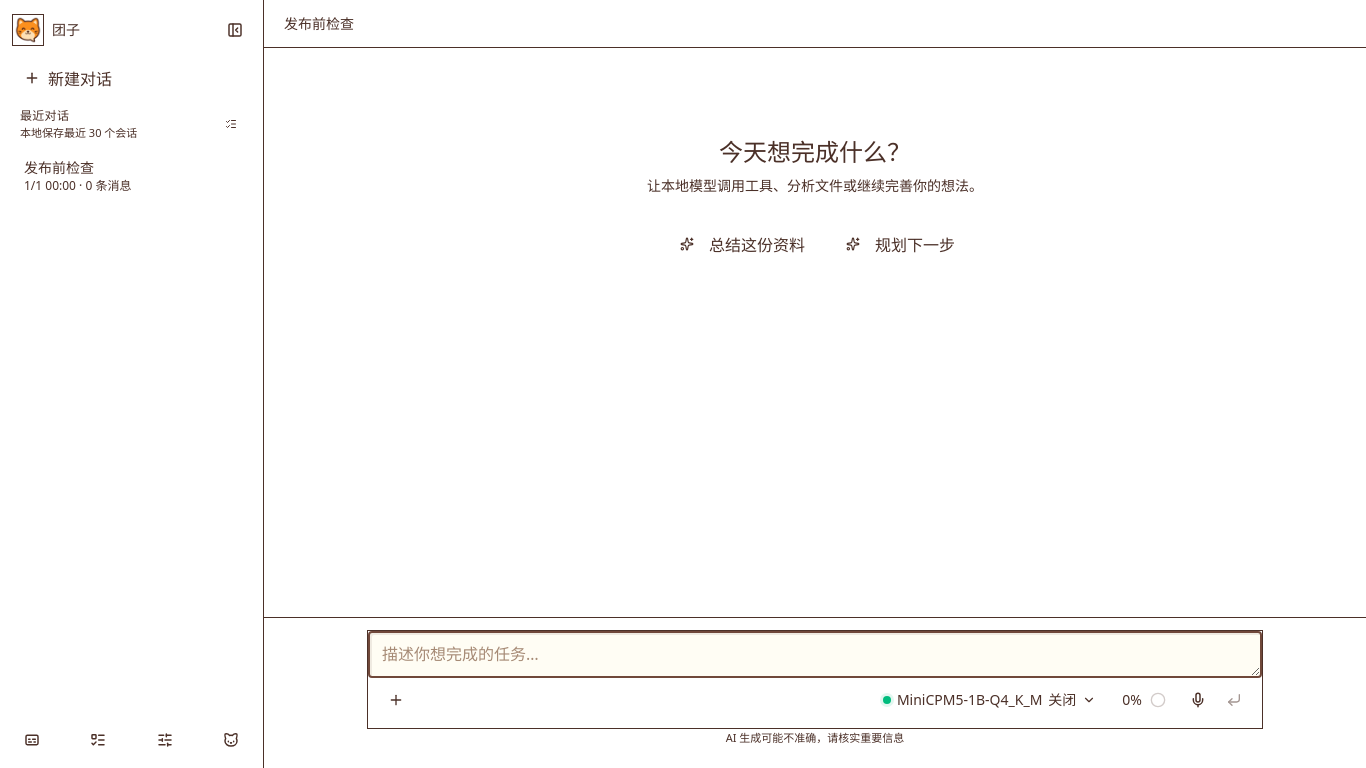
Scenario: ChatPanel workbench › keeps browser paste text-safe and routes attachments through Electron controls
Click the button named "添加附件" at (396, 700), box [380, 684, 412, 716]
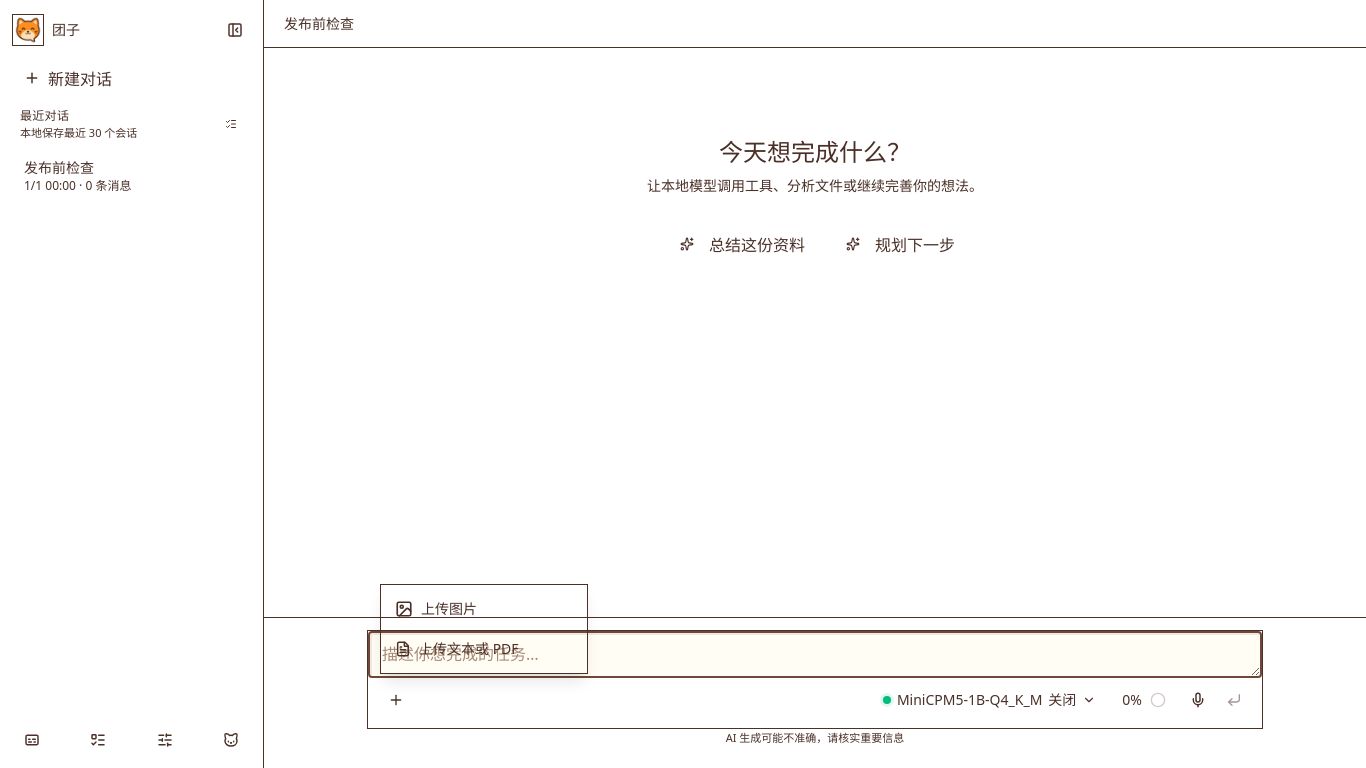
Click the menu item "上传图片" at (436, 608), box [395, 599, 477, 618]
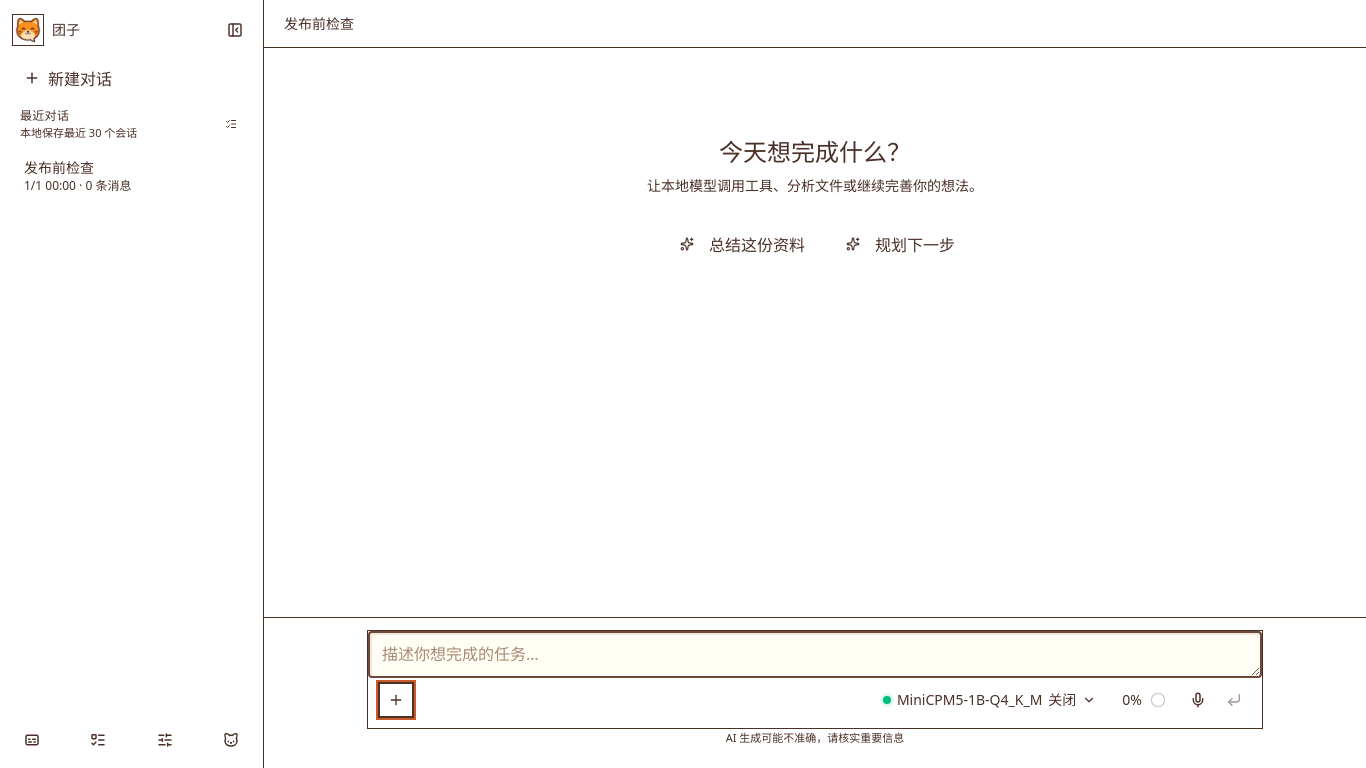
Result: the menu is gone
